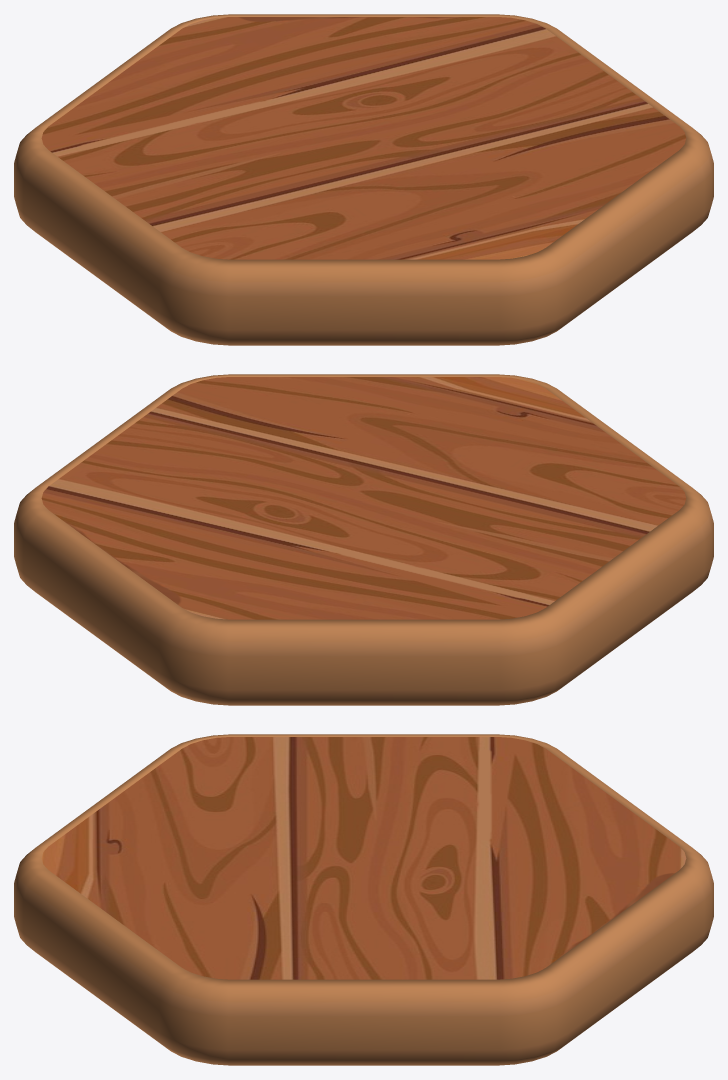
File: hexawood.fbx
The picture shows the model from 3 angles, top to bottom: view 1: azimuth 30°, elevation 25°; view 2: azimuth 150°, elevation 25°; view 3: azimuth 270°, elevation 25°; orthographic projection.
Parts seen in each view (by area): view 1: Cylinder.042, Cylinder.041; view 2: Cylinder.042, Cylinder.041; view 3: Cylinder.042, Cylinder.041.
Part boxes in pixels (x1,y1,x2,y2): Cylinder.042: (41,17,686,259); Cylinder.041: (14,14,713,345); Cylinder.042: (41,377,686,619); Cylinder.041: (14,374,713,705); Cylinder.042: (41,737,686,979); Cylinder.041: (14,734,713,1065).
Size of the model in its own units: 173 by 25.33 by 193.
1 material, 1 textured.
